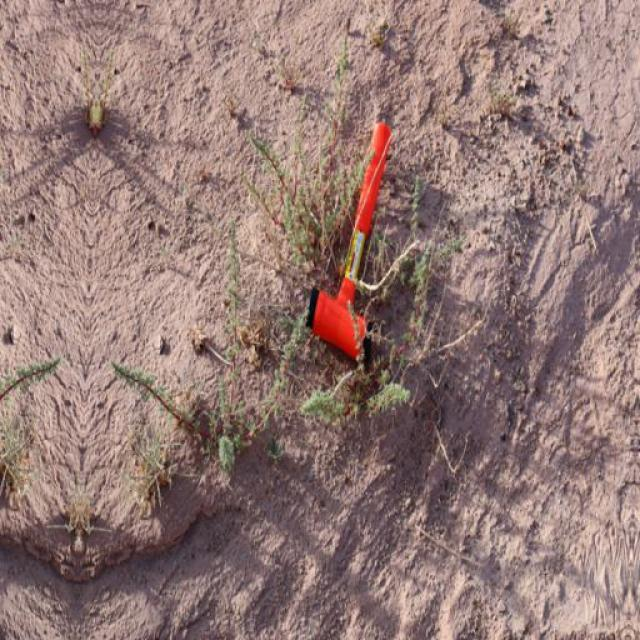mallet: (305, 119, 394, 362)
